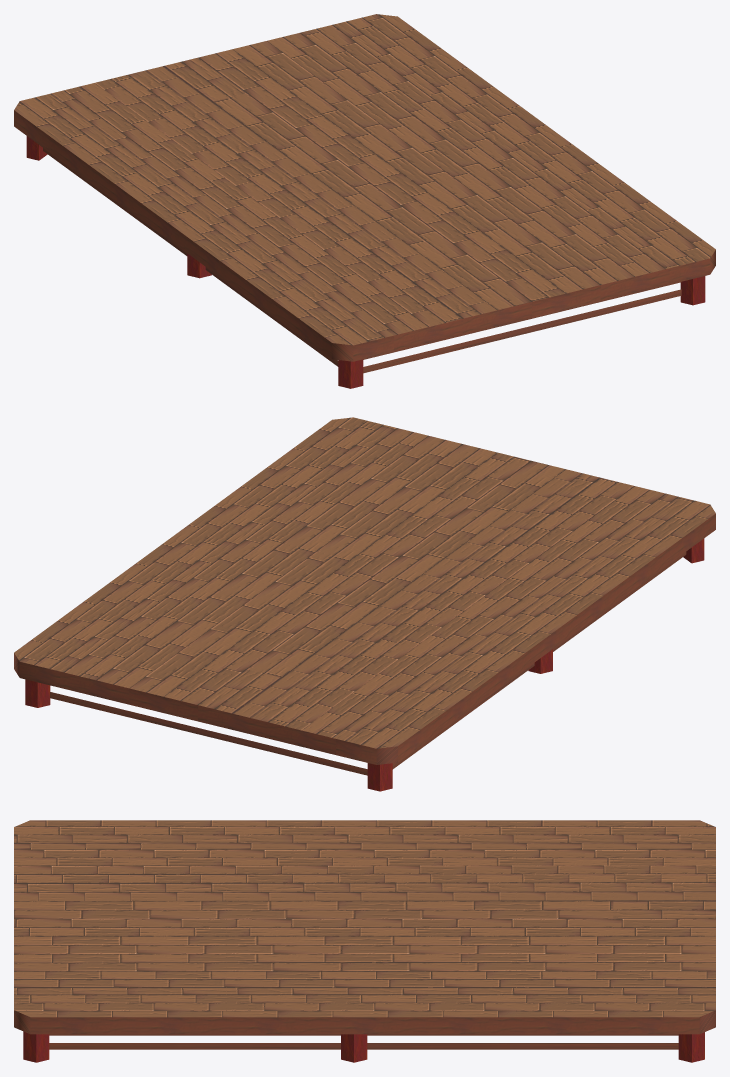
The model's file is BuildingBase_Art.fbx.
The picture shows the model from 3 angles, top to bottom: view 1: azimuth 30°, elevation 25°; view 2: azimuth 150°, elevation 25°; view 3: azimuth 270°, elevation 25°; orthographic projection. The views are drawn at different scales.
Visible parts, largest first — view 1: BuildingBase_Art; view 2: BuildingBase_Art; view 3: BuildingBase_Art.
Part boxes in pixels (x1,y1,x2,y2): BuildingBase_Art: (14, 14, 715, 388); BuildingBase_Art: (14, 417, 715, 791); BuildingBase_Art: (14, 820, 715, 1062).
Bounding box in the file's own units: 15.55 × 1.82 × 23.42.
